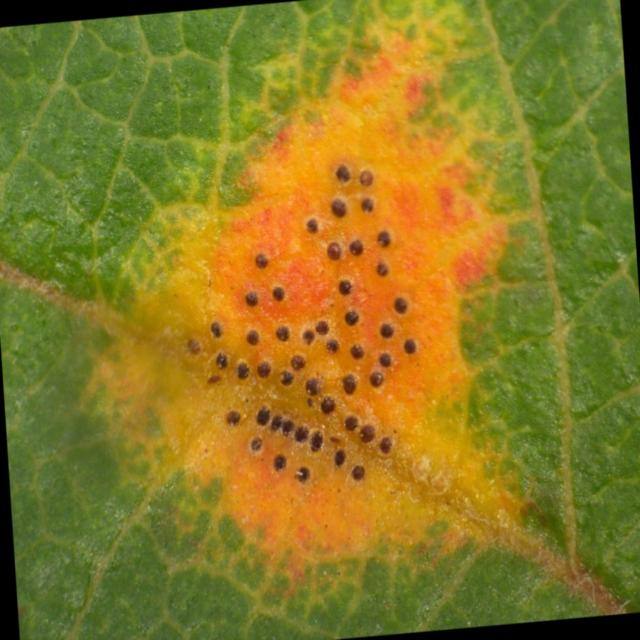Gymnosporangium_Rusts: (203, 157, 420, 488)
